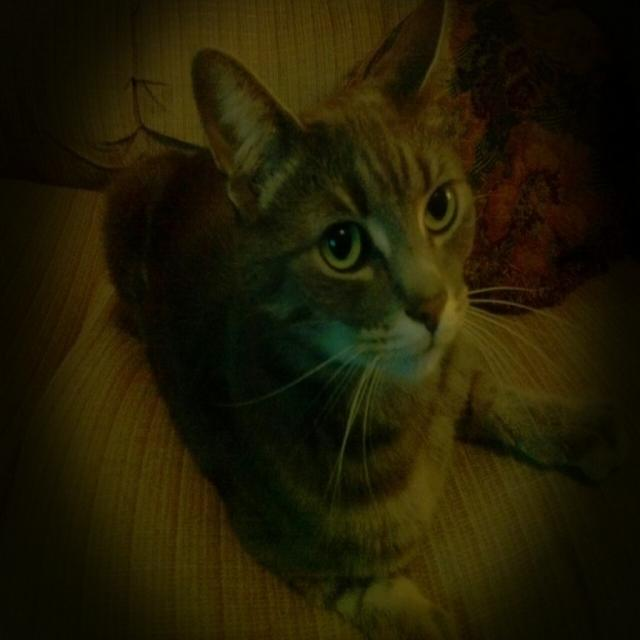Cat: (100, 0, 638, 638)
